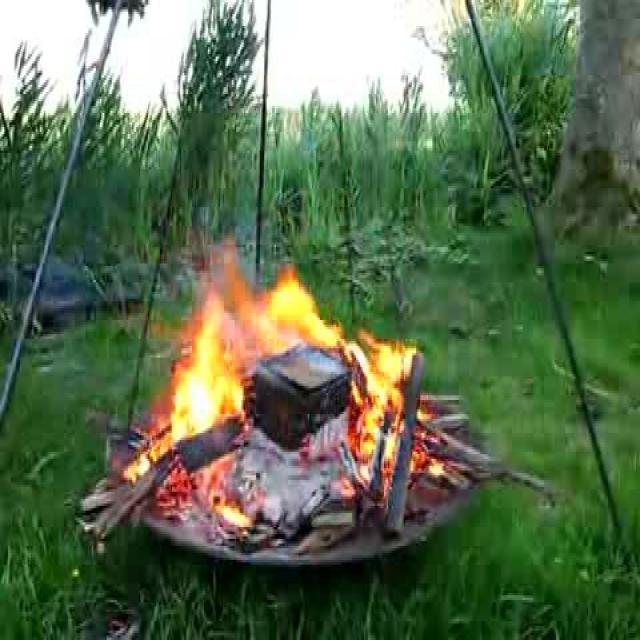Fire: (130, 184, 430, 516)
